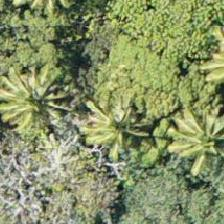coconut_tree: (73, 83, 163, 173), (151, 109, 223, 199), (0, 39, 69, 129), (0, 53, 67, 143)
